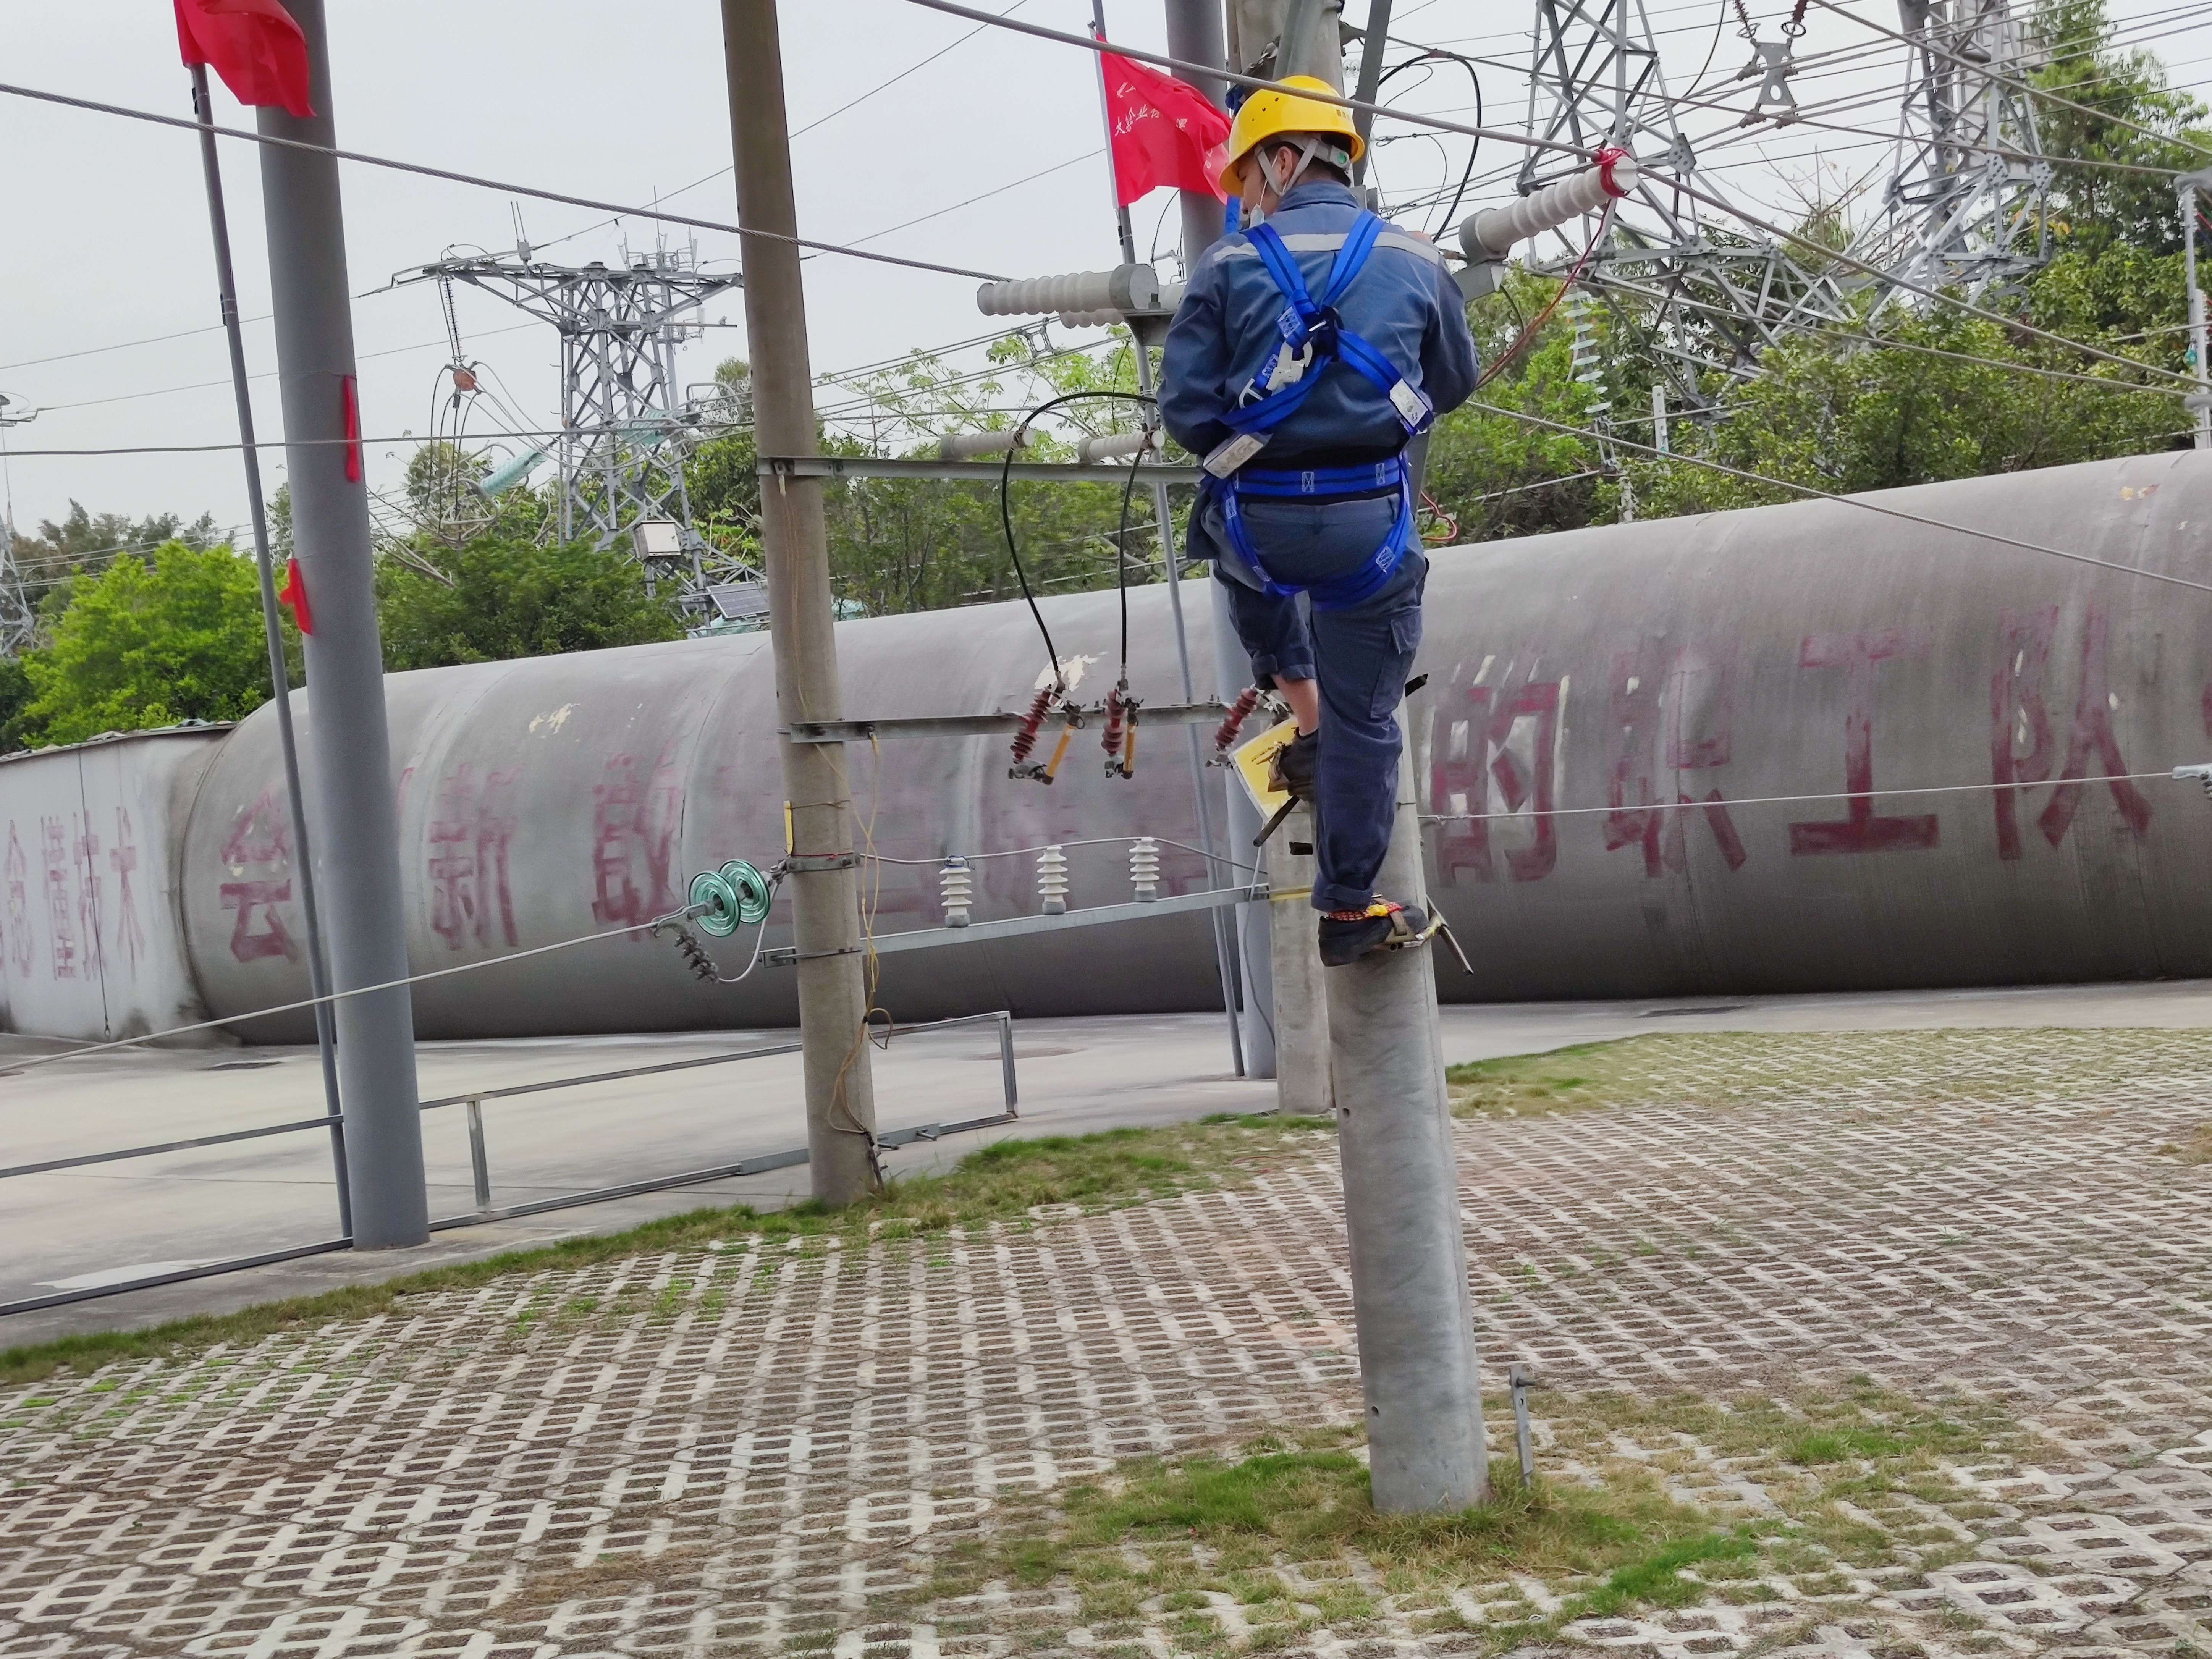downsuit: (1211, 512, 1428, 915)
upsuit: (1150, 190, 1479, 486)
wrongbottom: (1264, 631, 1315, 744)
